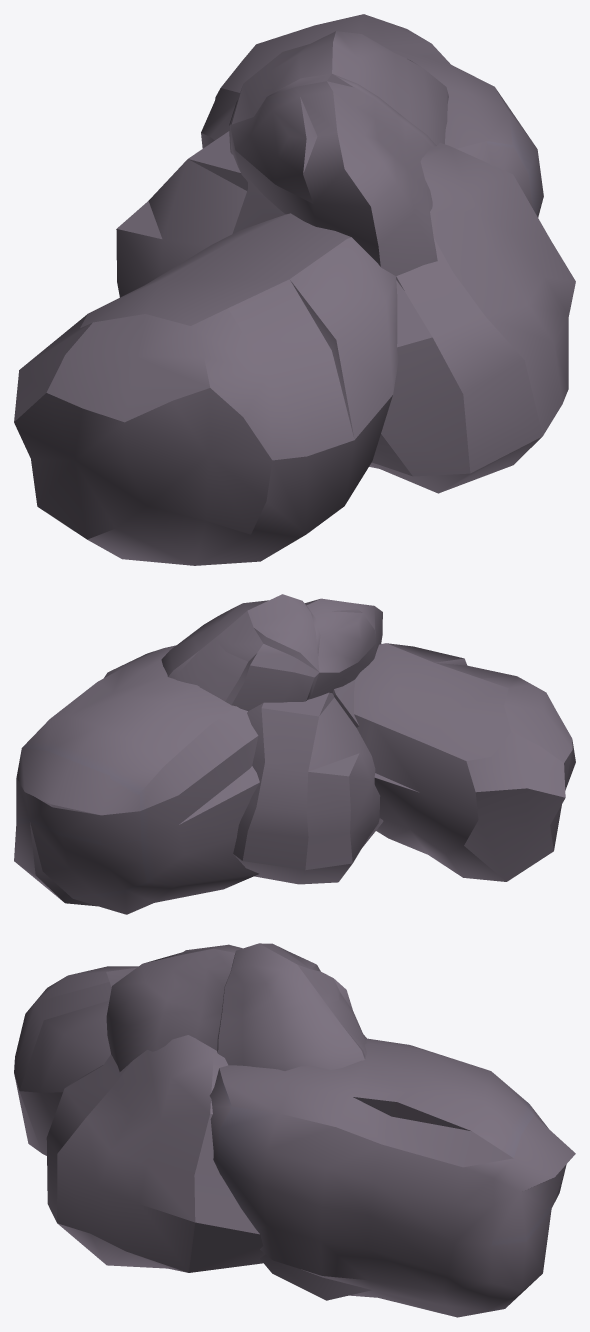
File: P_stone_10.fbx
3 views of the same model, one above another, from view 1: azimuth 30°, elevation 25°; view 2: azimuth 150°, elevation 25°; view 3: azimuth 270°, elevation 25° (orthographic). The views are drawn at different scales.
Parts seen in each view (by area): view 1: lod1; view 2: lod1; view 3: lod1.
Part boxes in pixels (<box>): lod1: <box>14,14,575,565</box>; lod1: <box>14,594,575,914</box>; lod1: <box>14,943,575,1317</box>.
Size of what is drawn, in the model's own units: 546 by 346 by 551.
Materials: 1 (1 with a texture image).
